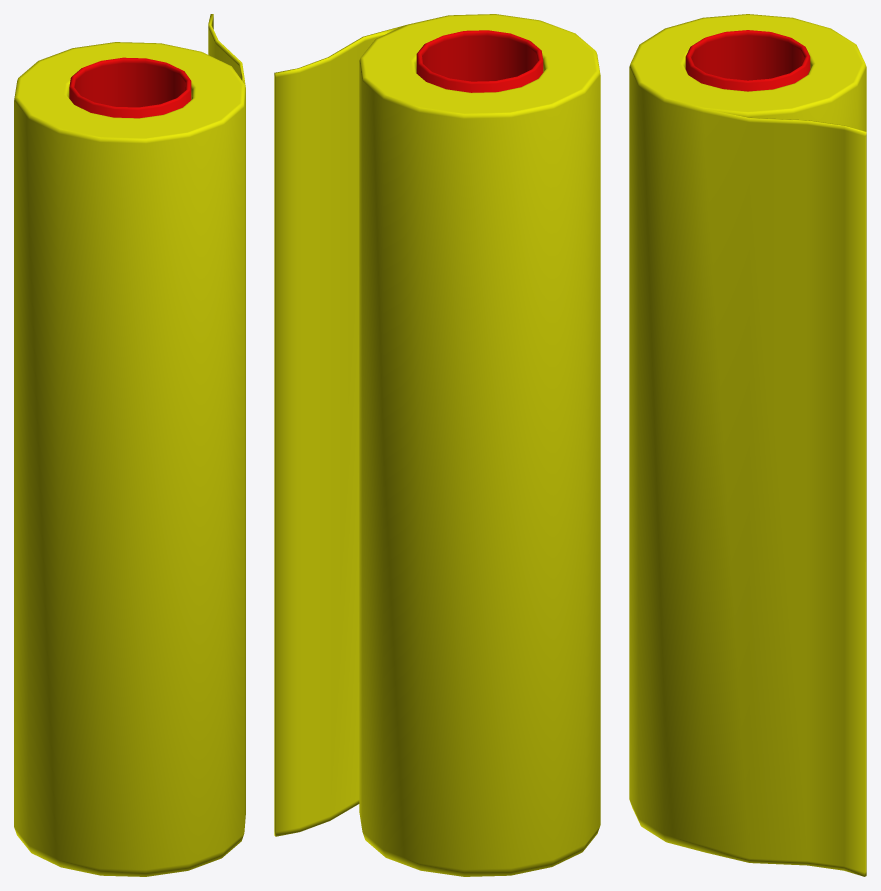
The model's file is paper_towels_grp.fbx.
3 views of the same model, side by side, from view 1: azimuth 30°, elevation 25°; view 2: azimuth 150°, elevation 25°; view 3: azimuth 270°, elevation 25° (orthographic). The views are drawn at different scales.
Parts seen in each view (by area): view 1: paper_towel_paper_1, paper_towel_1; view 2: paper_towel_paper_1, paper_towel_1; view 3: paper_towel_paper_1, paper_towel_1.
Boxes of the visible parts, <box> form: paper_towel_paper_1: <box>14,14,245,876</box>; paper_towel_1: <box>69,57,191,118</box>; paper_towel_paper_1: <box>274,14,600,876</box>; paper_towel_1: <box>416,30,543,92</box>; paper_towel_paper_1: <box>629,14,866,876</box>; paper_towel_1: <box>685,30,810,91</box>.
Size of the model in its own units: 7.21 by 21.38 by 6.05.
